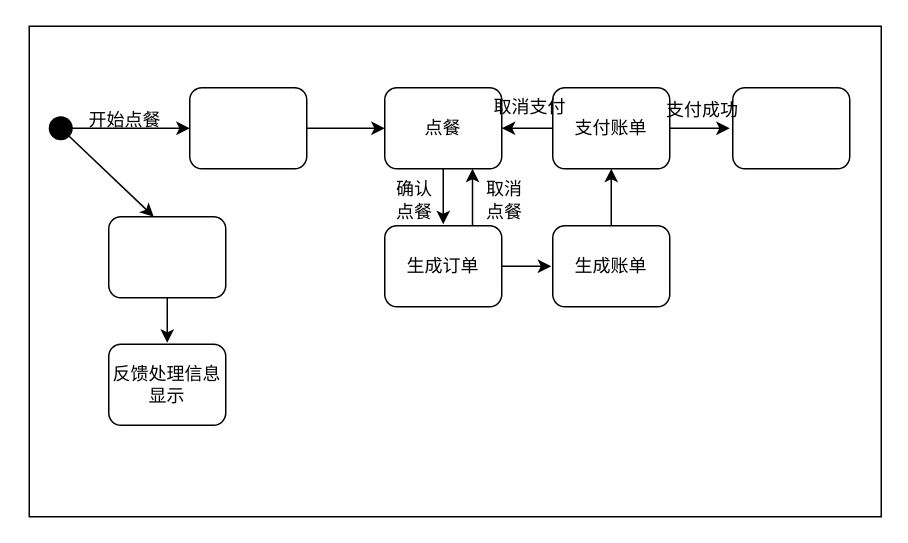
Image size: 908x543. Some labels were removed from this diagram. The centre of each missing label's shape, as x and y in pixels:
列表显示 商品信息: pixel 247 127
制作 与配送信息 显示: pixel 790 127
提交反馈: pixel 166 256
